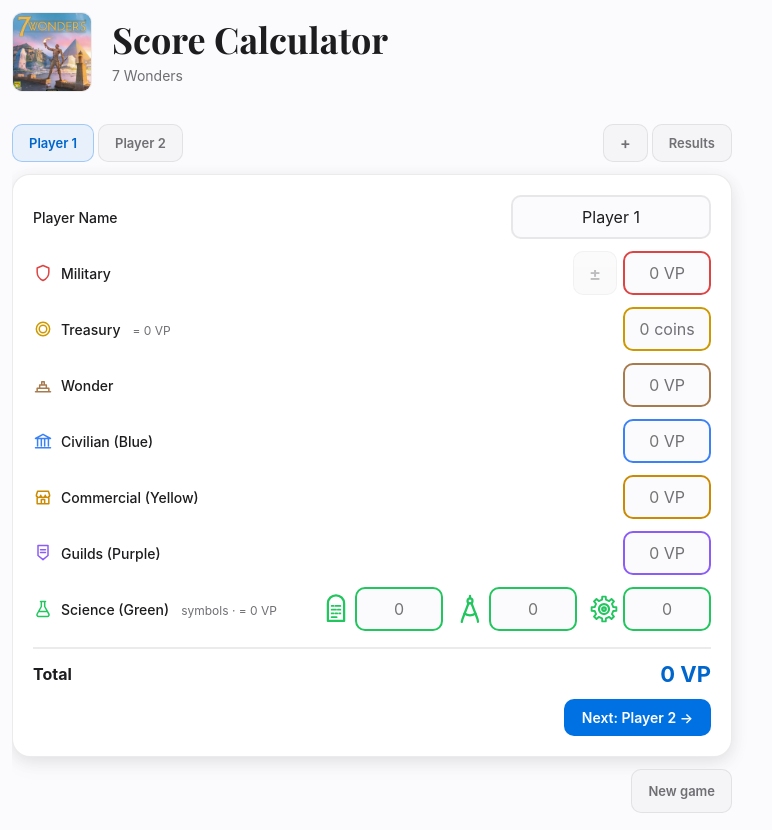
Test: ScoreCalculatorPage › lets players level on points and coins share the place
Type "8" into the number field labelled "Civilian (Blue)" at (654, 441), box x1=553 y1=421 x2=755 y2=461
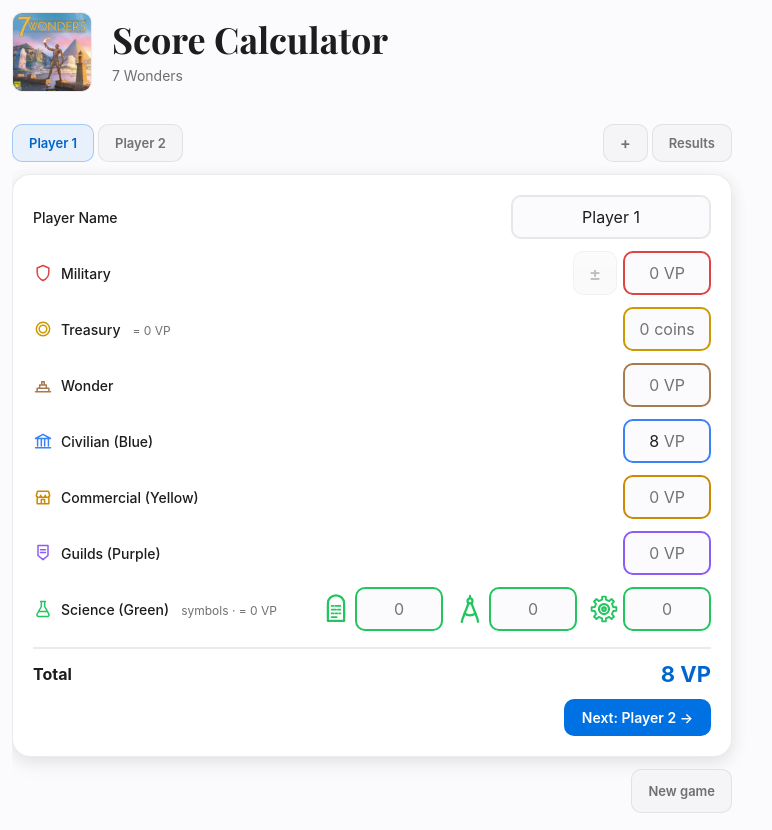
Type "4" into the number field labelled "Treasury = 0 VP" at (644, 329), box x1=543 y1=309 x2=746 y2=349
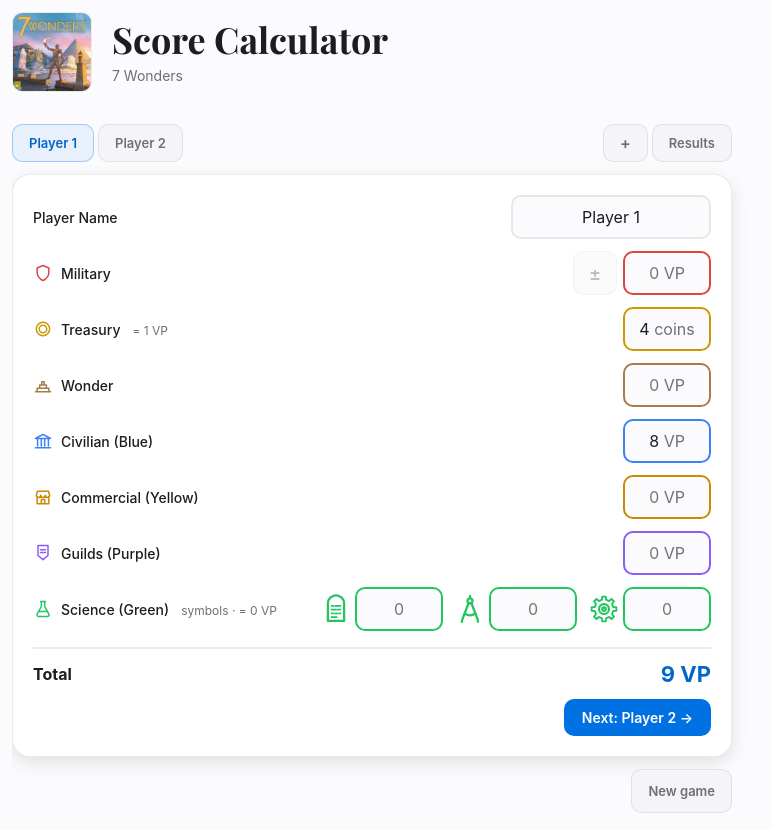
Click the button "Player 2" at (140, 143), box x1=99 y1=125 x2=182 y2=161
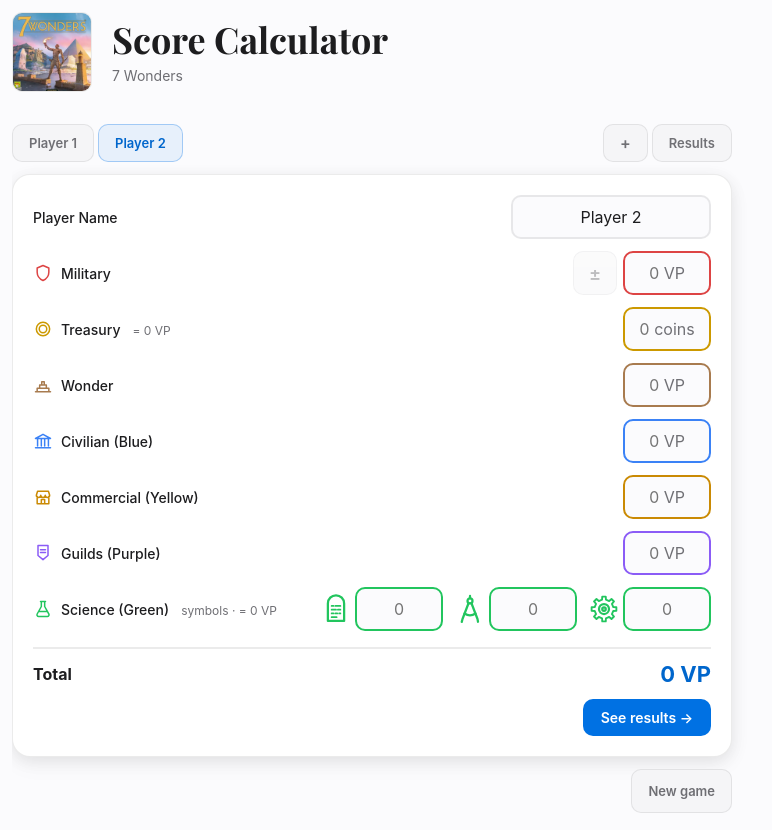
Type "8" into the number field labelled "Civilian (Blue)" at (654, 441), box x1=553 y1=421 x2=755 y2=461
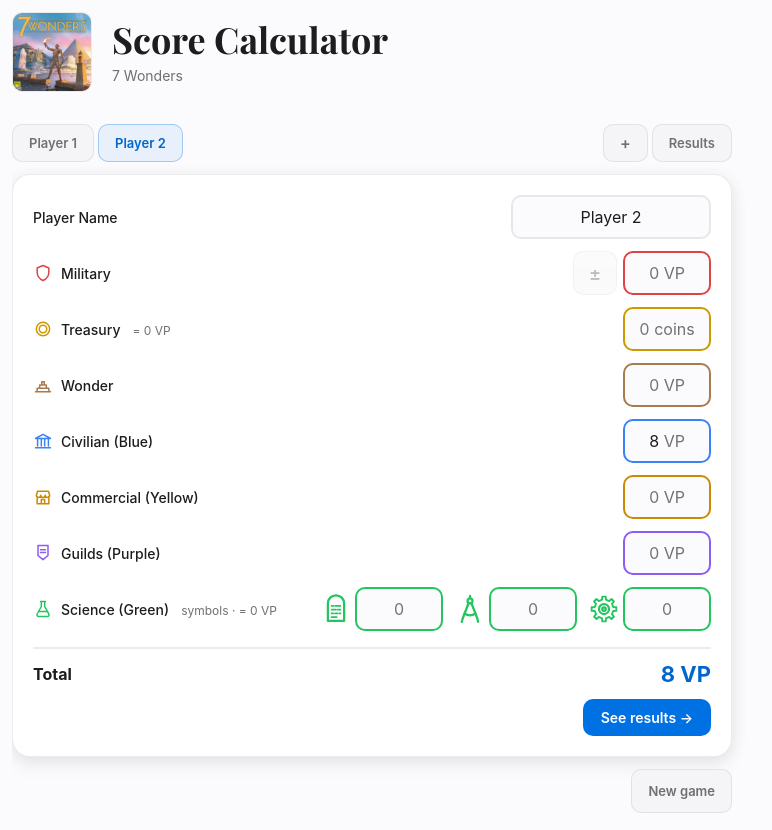
Type "4" into the number field labelled "Treasury = 0 VP" at (644, 329), box x1=543 y1=309 x2=746 y2=349
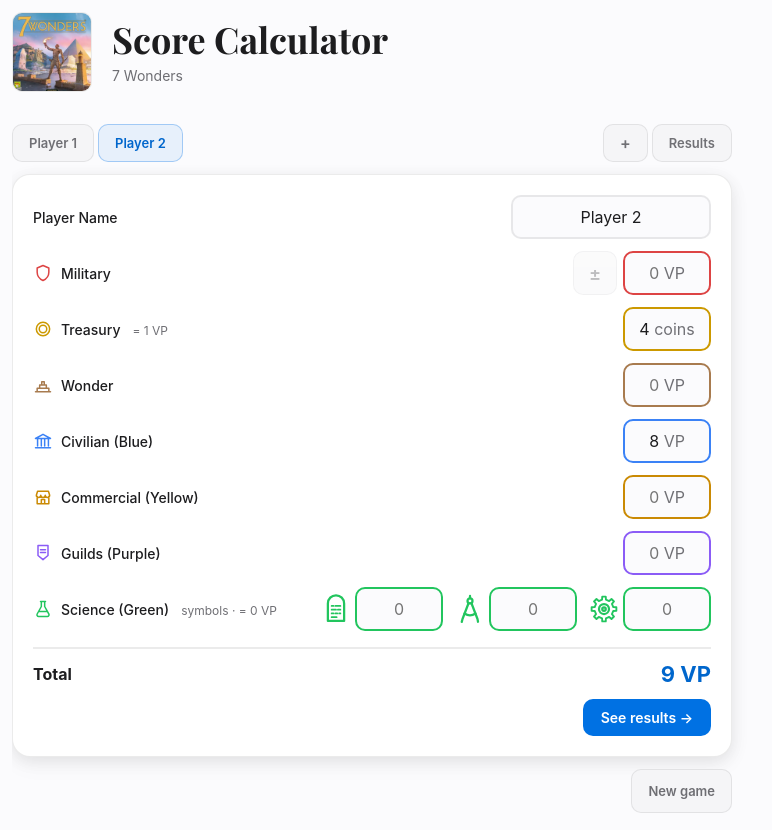
Click the button "Results" at (692, 143), box x1=652 y1=124 x2=732 y2=162
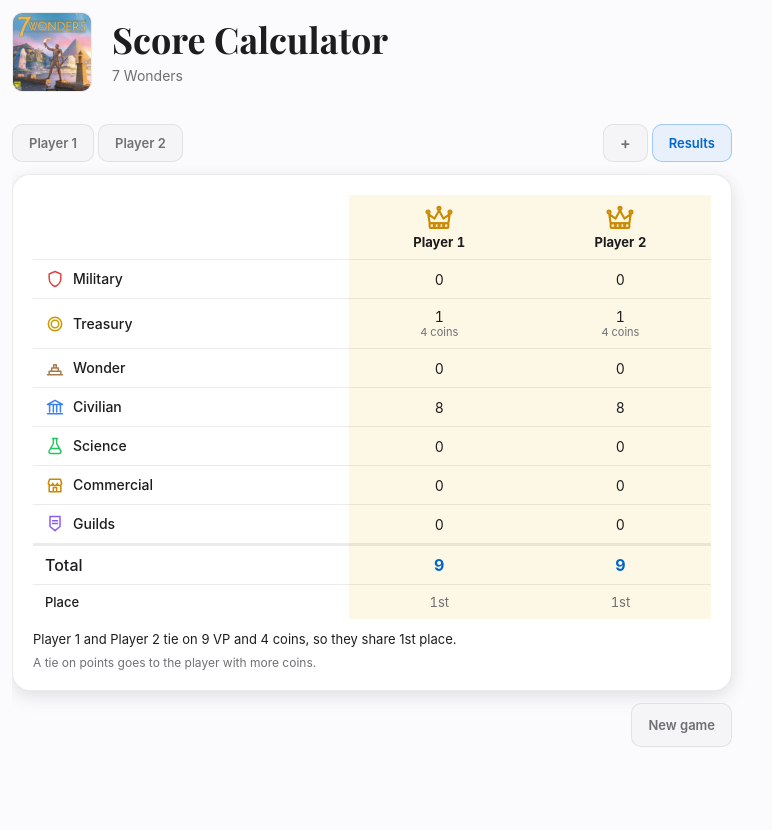
expect the cells read "1st", "1st", in this order: met, box x1=349 y1=585 x2=530 y2=619; x1=530 y1=585 x2=711 y2=619
expect the text "Player 1 and Player 2 tie on 9 VP and 4 coins, so they share 1st place." is shown: met, box x1=33 y1=631 x2=456 y2=647
